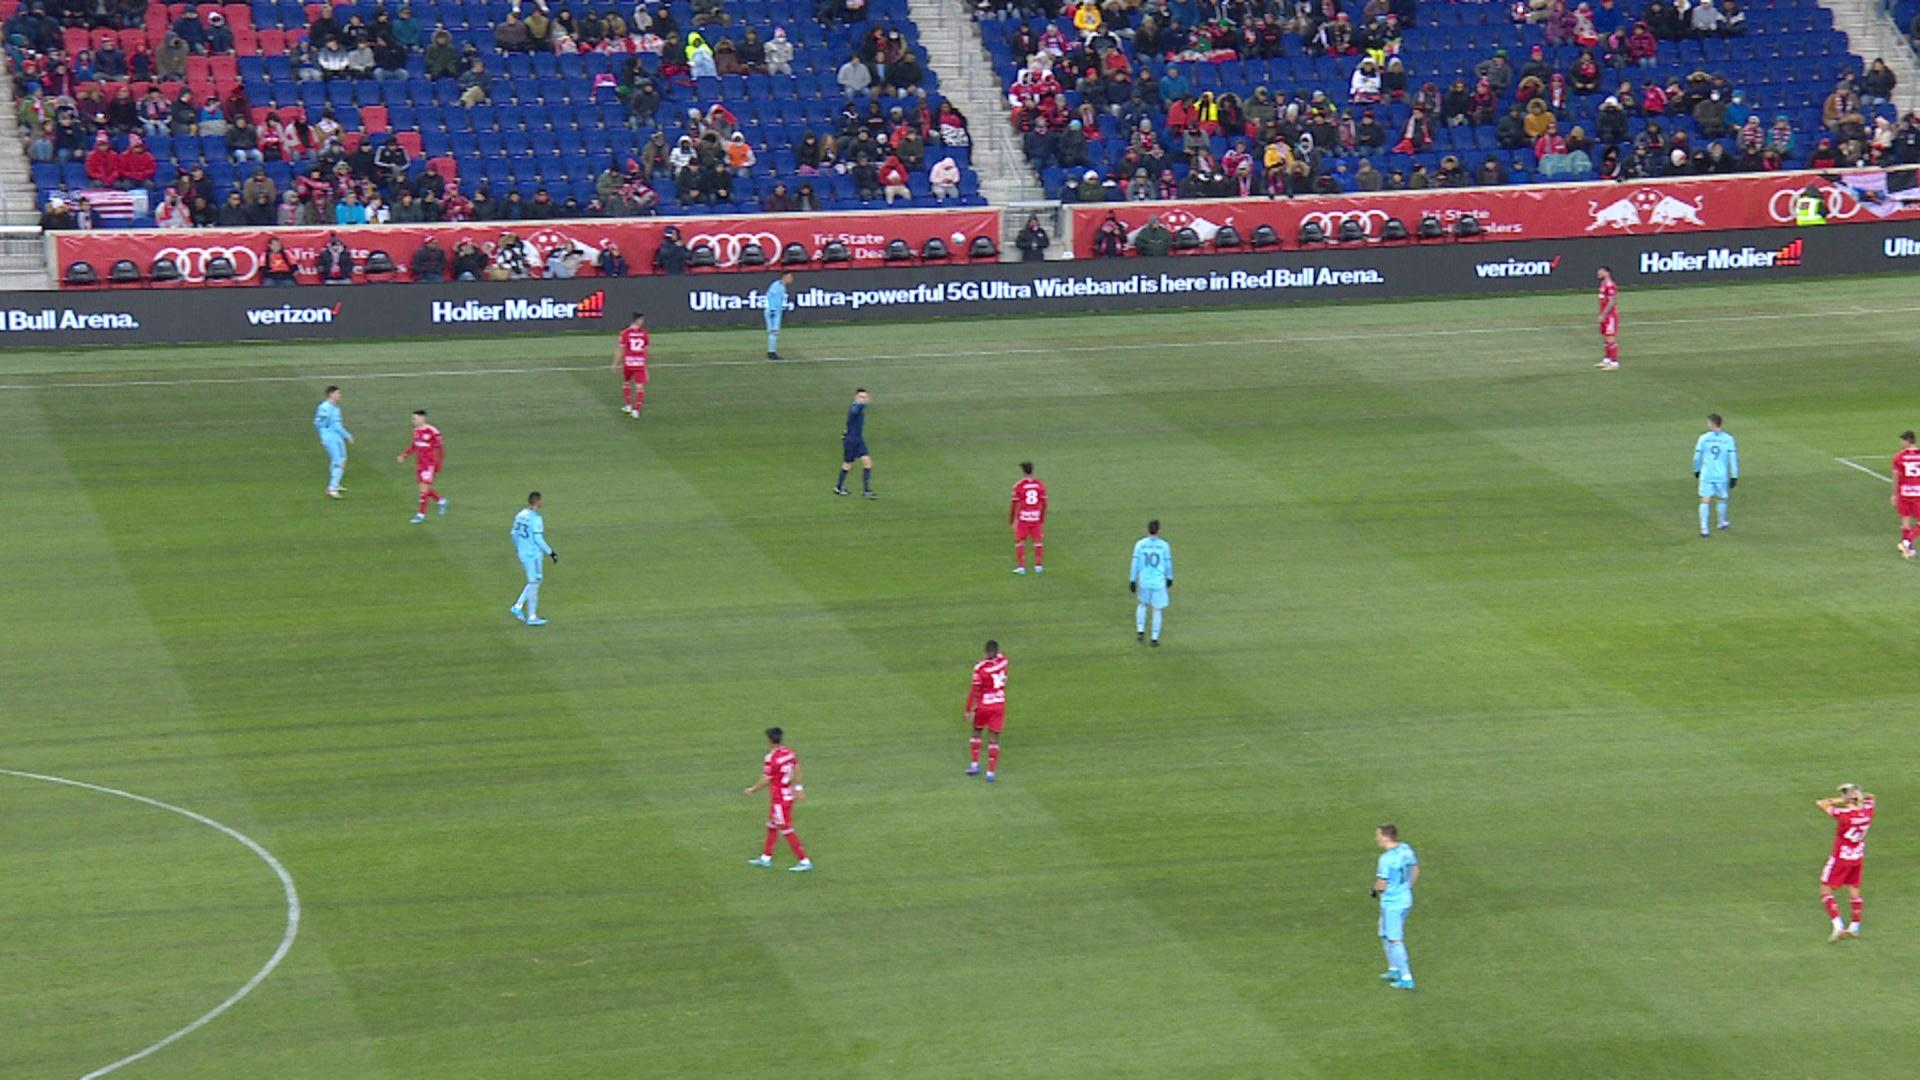football: (952, 233, 964, 244)
